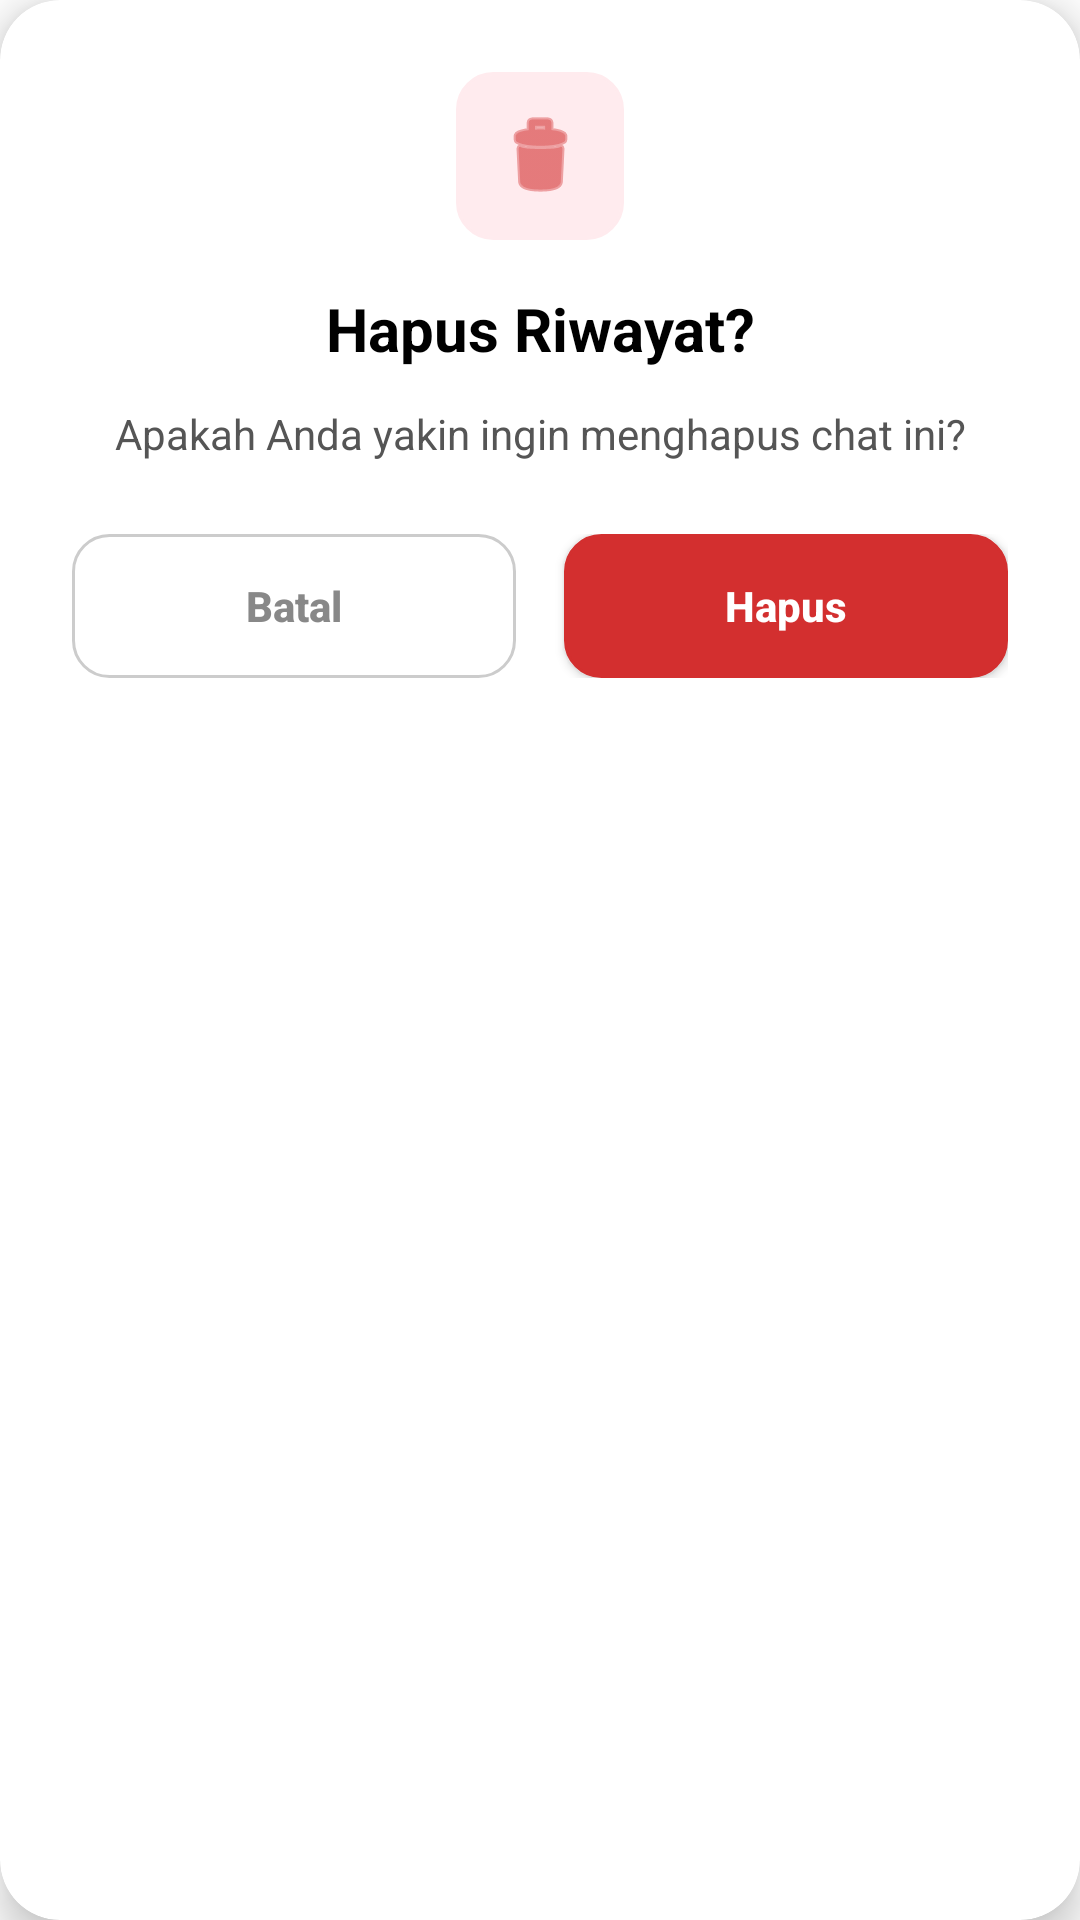

Locate icon controls on the screen. Image size 1080 x 1920, boxes as region(x1, y1, x2, y2).
delete: region(513, 117, 568, 192)
